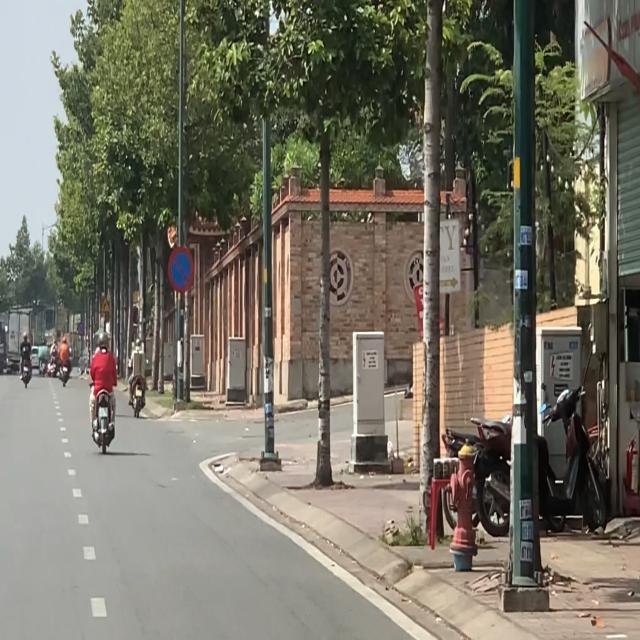Cam do: (167, 245, 195, 293)
Cam dung va do: (78, 322, 84, 336)
Nguy hiem: (101, 297, 110, 312)
